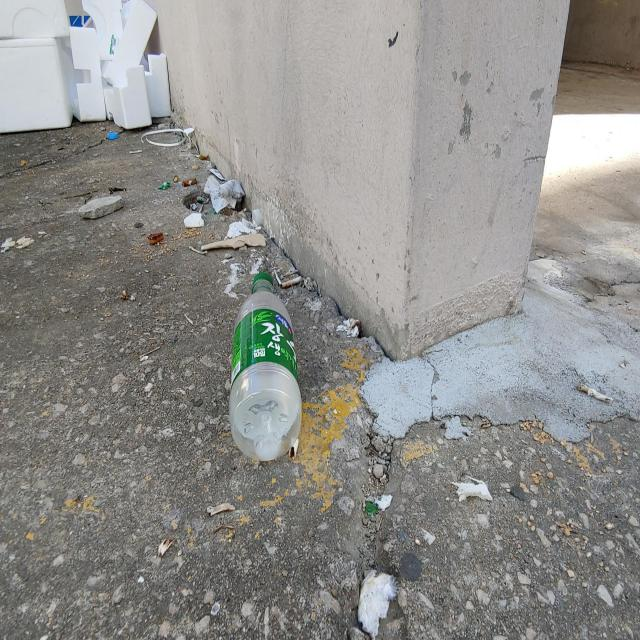plastic: (229, 274, 302, 461)
